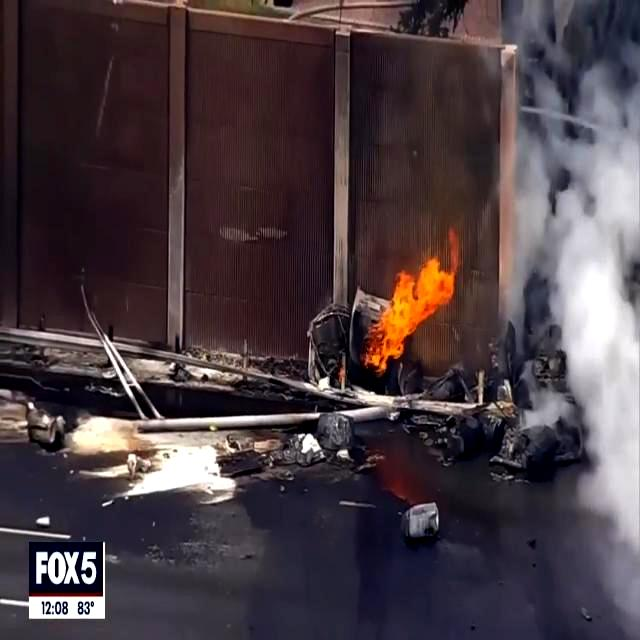fire: (362, 222, 462, 378)
